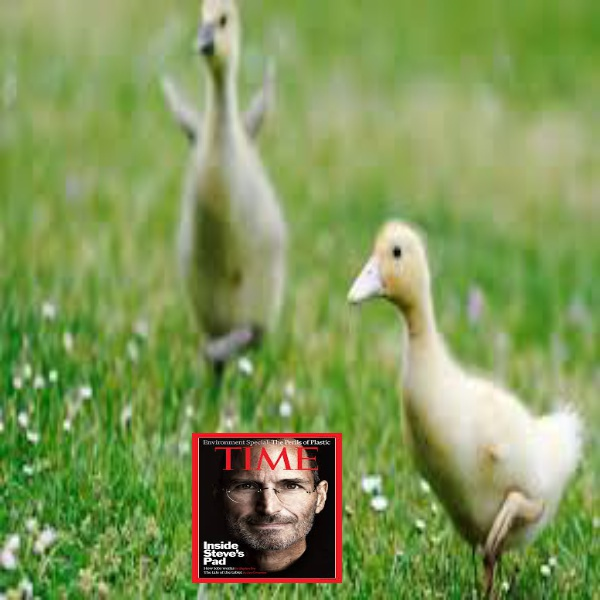time_cover: (189, 431, 343, 584)
